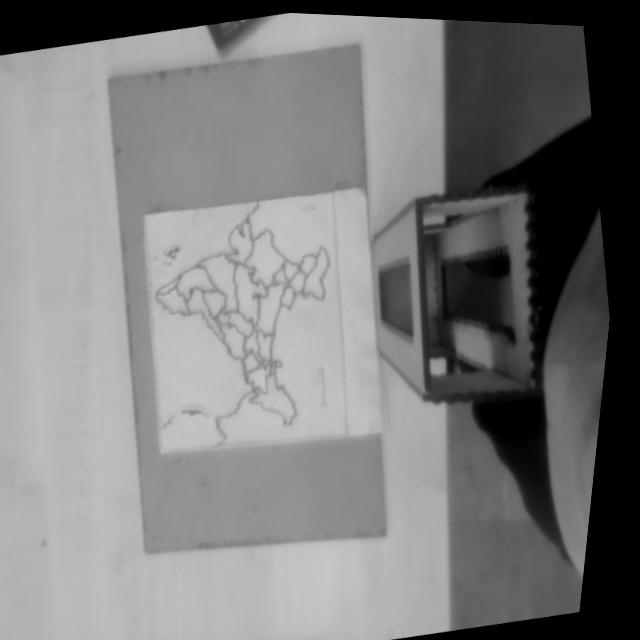map: (140, 192, 354, 453)
